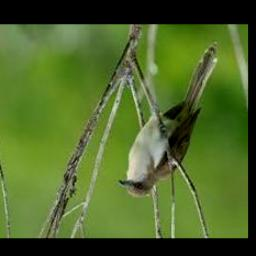Cuckoo: (119, 41, 219, 197)
